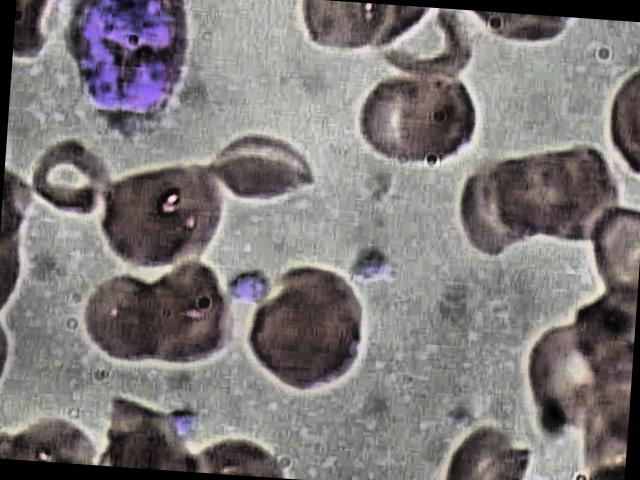Platelets: (50, 0, 202, 126), (219, 260, 271, 308), (342, 243, 396, 287), (163, 406, 203, 438)
RBC: (236, 260, 373, 401), (92, 148, 228, 278), (132, 256, 239, 370), (456, 146, 550, 262), (203, 131, 323, 219), (74, 270, 177, 370), (396, 66, 492, 172), (346, 67, 441, 174), (21, 131, 112, 222), (443, 418, 536, 480)
